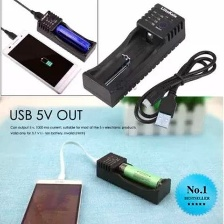battery: (114, 157, 165, 195), (50, 23, 91, 53)
phone: (2, 28, 82, 98), (16, 174, 87, 224)
